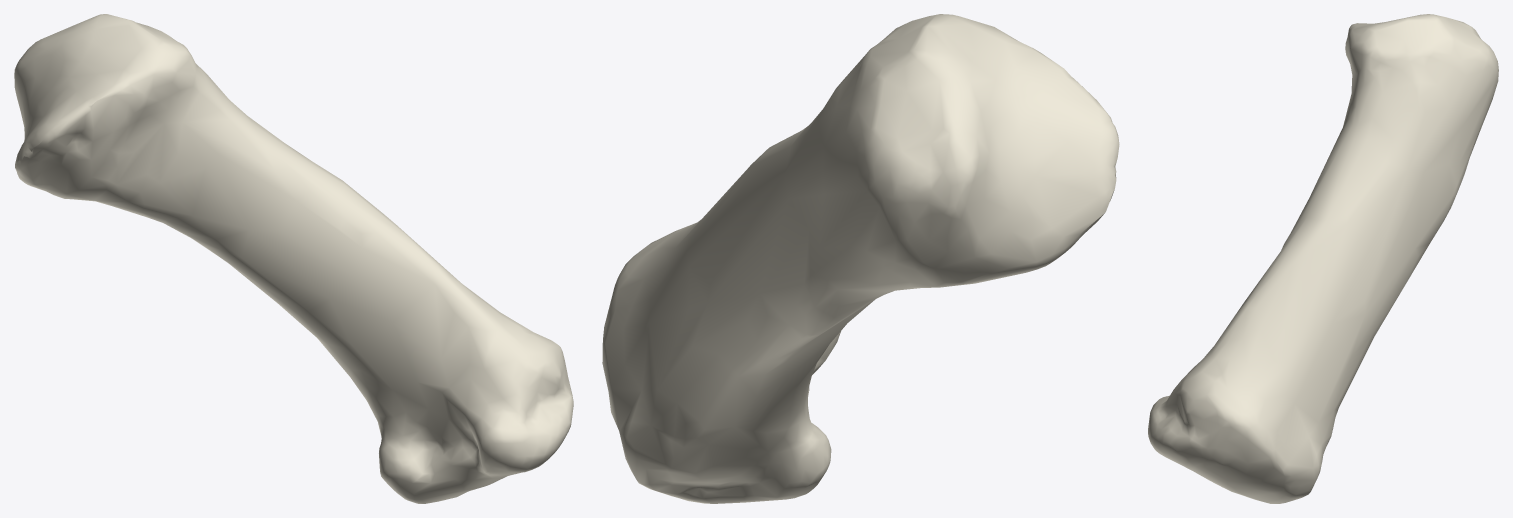
File: fma24465.glb
The picture shows the model from 3 angles, left to right: view 1: azimuth 30°, elevation 25°; view 2: azimuth 150°, elevation 25°; view 3: azimuth 270°, elevation 25°; orthographic projection. The views are drawn at different scales.
Parts seen in each view (by area): view 1: FMA24465; view 2: FMA24465; view 3: FMA24465.
Part boxes in pixels (x1,y1,x2,y2): FMA24465: [14, 14, 573, 503]; FMA24465: [602, 14, 1119, 503]; FMA24465: [1148, 14, 1498, 503].
Bounding box in the file's own units: 0.0375 × 0.0372 × 0.0307.
